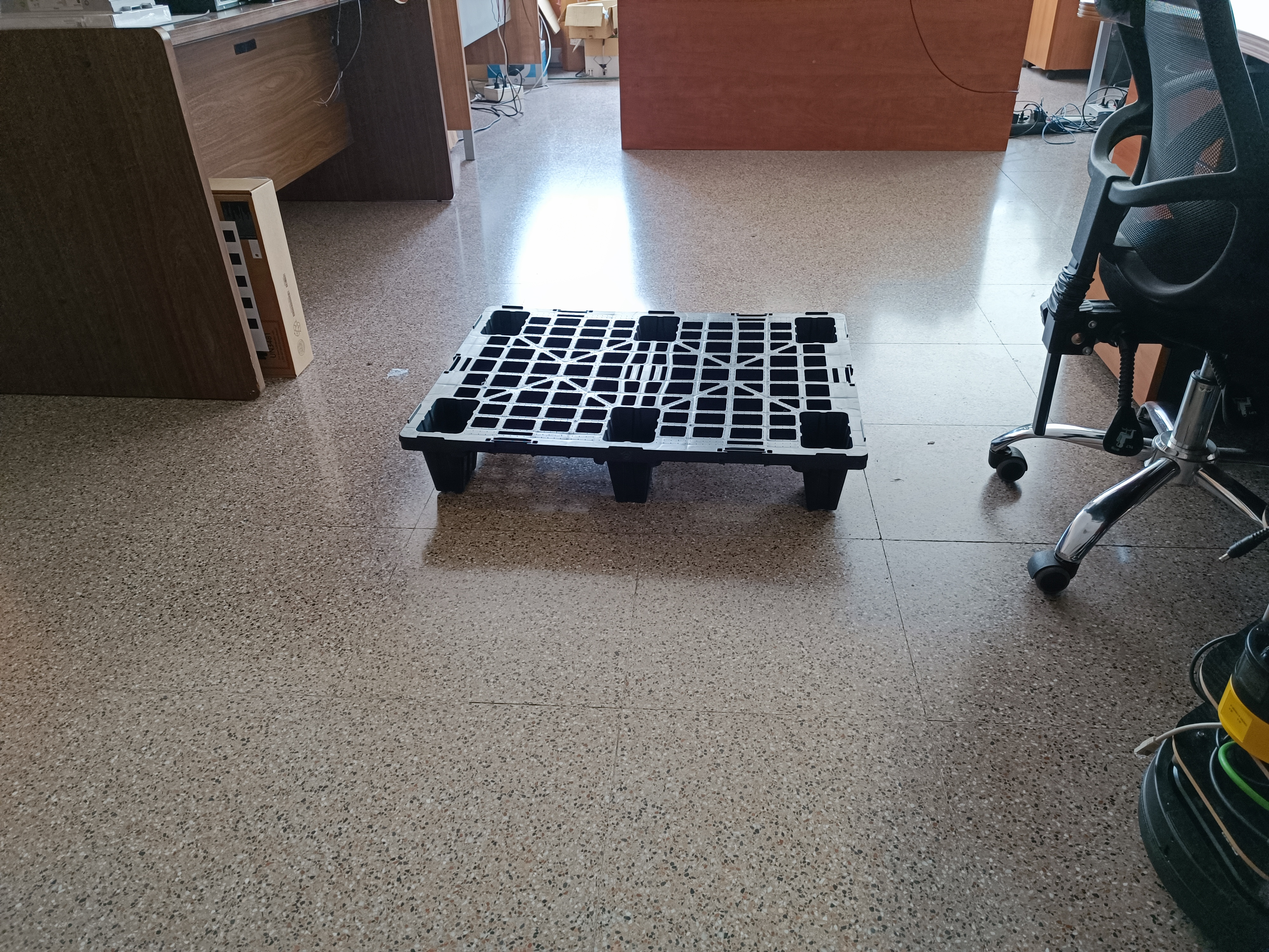block: (409, 441, 482, 499), (798, 462, 864, 510), (600, 452, 657, 505)
front: (412, 441, 893, 525)
hole pallet: (648, 460, 805, 508), (470, 454, 613, 497)
